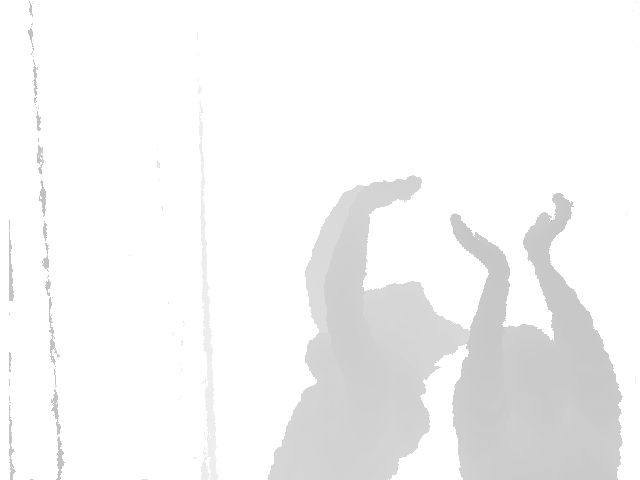hand: (444, 208, 516, 274), (344, 167, 425, 214), (521, 191, 573, 257)
head: (352, 278, 468, 387), (496, 323, 561, 420)
person: (268, 172, 456, 480), (436, 192, 624, 480)
